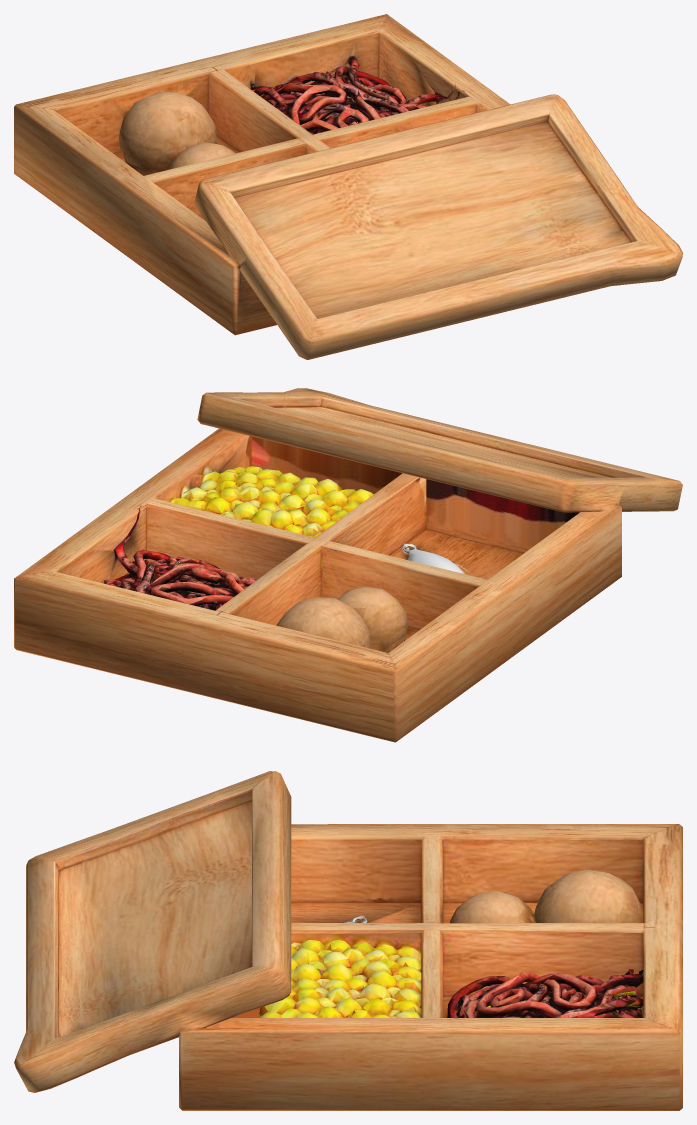
Rendered from baitbox.glb.
The picture shows the model from 3 angles, top to bottom: view 1: azimuth 30°, elevation 25°; view 2: azimuth 150°, elevation 25°; view 3: azimuth 270°, elevation 25°; orthographic projection. The views are drawn at different scales.
Visible parts, largest first — view 1: baitbox30; view 2: baitbox30; view 3: baitbox30.
Part boxes in pixels (x1,y1,x2,y2): baitbox30: (14, 14, 682, 359); baitbox30: (14, 388, 682, 742); baitbox30: (14, 771, 682, 1110).
Bounding box in the file's own units: 0.7514 × 0.2308 × 1.
Materials: 1 (1 with a texture image).
